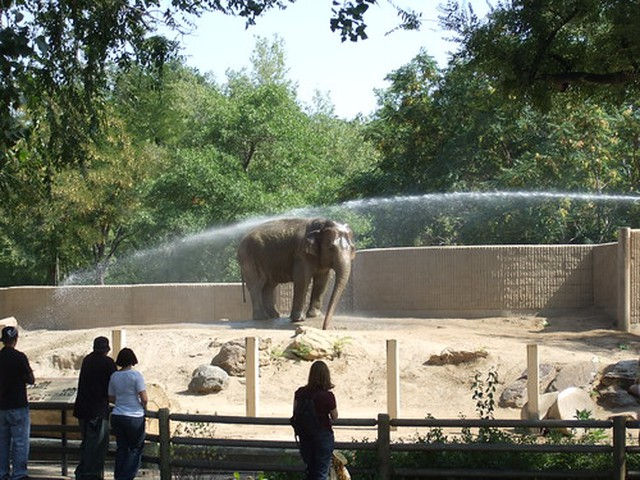Elephant: (234, 214, 356, 328)
Person: (70, 335, 156, 480), (287, 353, 342, 478), (1, 328, 37, 478)
